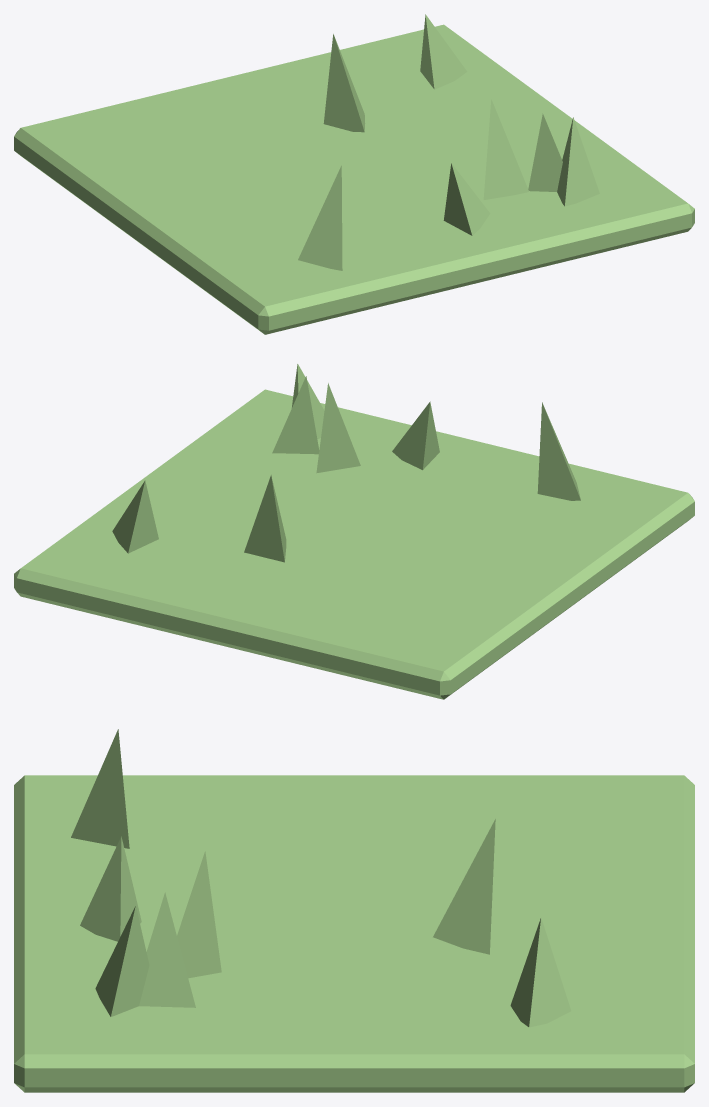
Rendered from grama.fbx.
The picture shows the model from 3 angles, top to bottom: view 1: azimuth 30°, elevation 25°; view 2: azimuth 150°, elevation 25°; view 3: azimuth 270°, elevation 25°; orthographic projection. The views are drawn at different scales.
Visible parts, largest first — view 1: Grama~Leito@grass, Grama~Tufo 5@grass, Grama~Tufo 4@grass, Grama~Tufo 0@grass, Grama~Tufo 1@grass, Grama~Tufo 6@grass, Grama~Tufo 3@grass, Grama~Tufo 2@grass; view 2: Grama~Leito@grass, Grama~Tufo 5@grass, Grama~Tufo 4@grass, Grama~Tufo 0@grass, Grama~Tufo 2@grass, Grama~Tufo 6@grass, Grama~Tufo 3@grass, Grama~Tufo 1@grass; view 3: Grama~Leito@grass, Grama~Tufo 0@grass, Grama~Tufo 6@grass, Grama~Tufo 5@grass, Grama~Tufo 2@grass, Grama~Tufo 1@grass, Grama~Tufo 4@grass, Grama~Tufo 3@grass.
Boxes of the visible parts, x1,y1,x2,y2 form: Grama~Leito@grass: (14,24,694,334); Grama~Tufo 5@grass: (298,165,342,270); Grama~Tufo 4@grass: (483,99,528,199); Grama~Tufo 0@grass: (323,34,365,132); Grama~Tufo 1@grass: (557,117,599,206); Grama~Tufo 6@grass: (420,14,467,89); Grama~Tufo 3@grass: (443,163,490,235); Grama~Tufo 2@grass: (528,113,562,191); Grama~Leito@grass: (14,389,694,699); Grama~Tufo 5@grass: (537,402,580,500); Grama~Tufo 4@grass: (316,383,360,473); Grama~Tufo 0@grass: (244,475,286,562); Grama~Tufo 2@grass: (272,376,319,454); Grama~Tufo 6@grass: (112,480,158,553); Grama~Tufo 3@grass: (392,401,439,470); Grama~Tufo 1@grass: (292,364,324,439); Grama~Leito@grass: (14,775,694,1092); Grama~Tufo 0@grass: (433,819,495,954); Grama~Tufo 6@grass: (510,917,571,1027); Grama~Tufo 5@grass: (71,729,129,848); Grama~Tufo 2@grass: (139,892,195,1007); Grama~Tufo 1@grass: (95,905,149,1016); Grama~Tufo 4@grass: (177,851,221,978); Grama~Tufo 3@grass: (80,836,141,941).
Bounding box in the file's own units: 1.94 × 0.4987 × 1.94.
